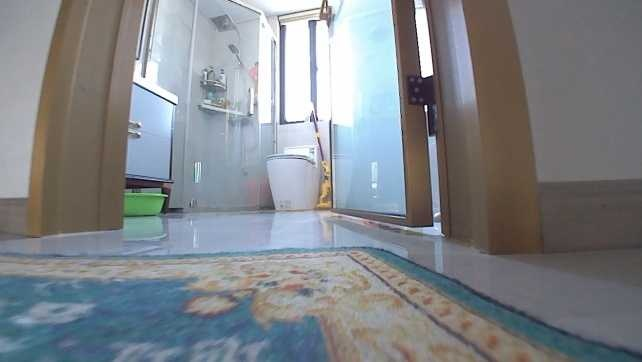blanket: (0, 243, 638, 360)
door_anno: (315, 0, 539, 253)
toilet: (263, 142, 321, 211)
